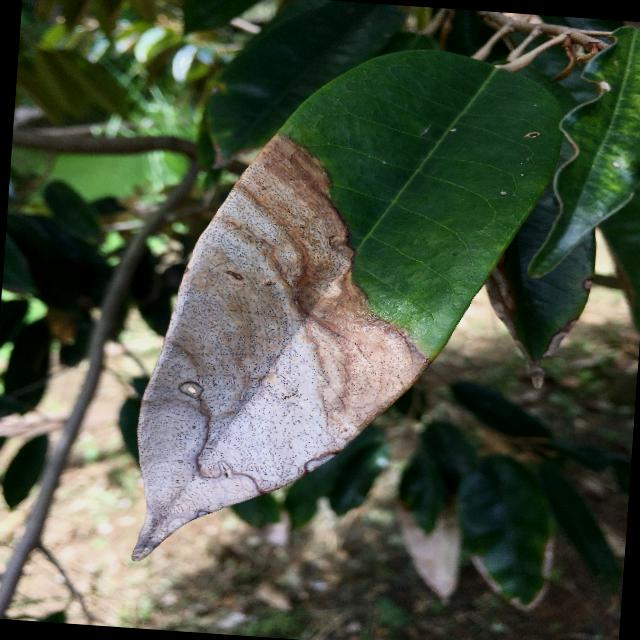Leaf Blight: (117, 23, 574, 594)
